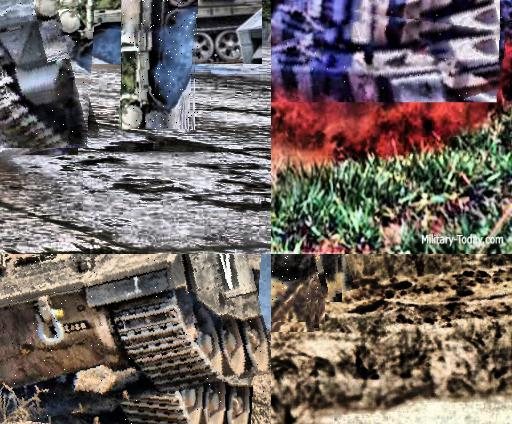tanks: (1, 255, 272, 385), (272, 13, 504, 103), (1, 1, 89, 148), (123, 1, 199, 130), (272, 255, 340, 298)
